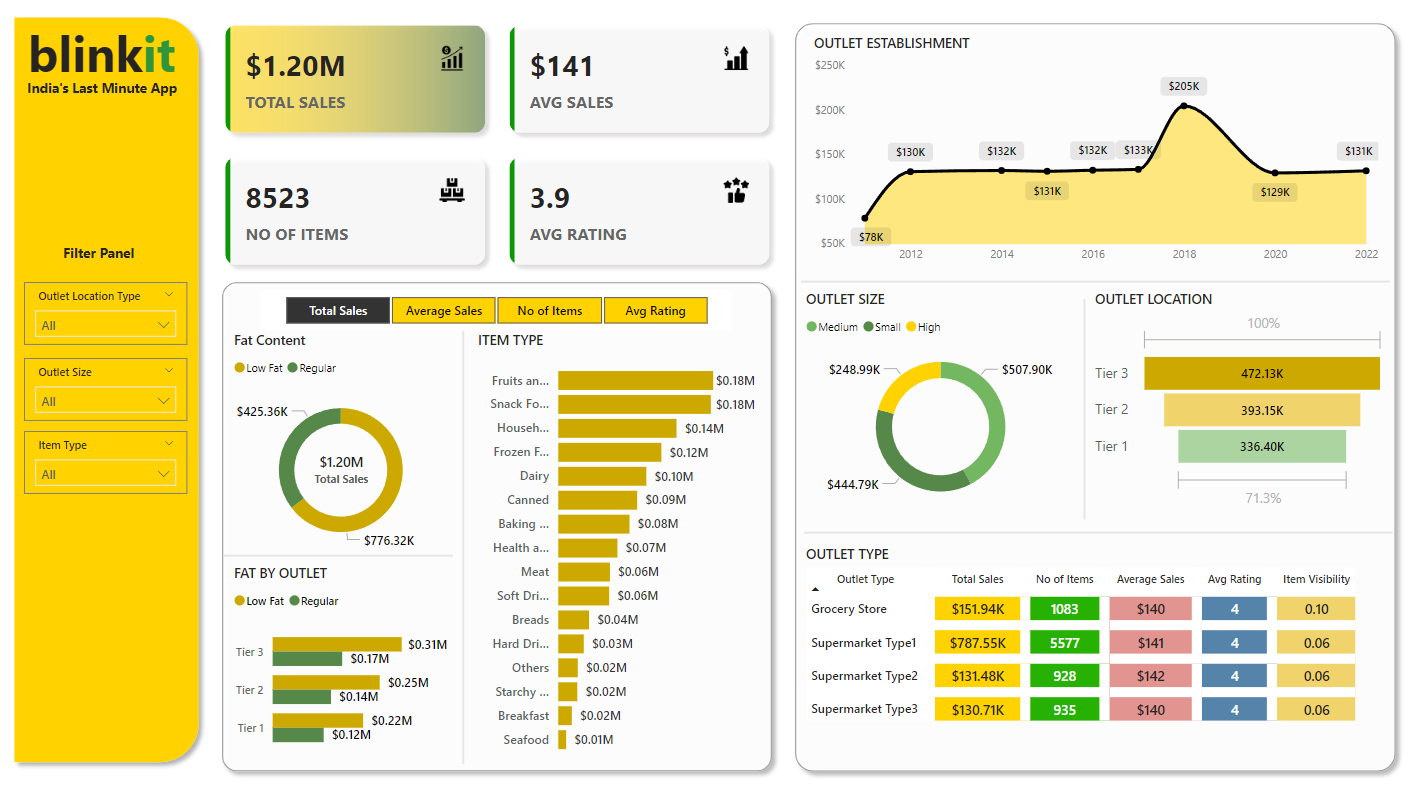

This screenshot's page, from the dashboard's own definition file:
{"tool":"powerbi","page":{"name":"Page 1","canvas":[1400,800],"ordinal":0},"visuals":[{"type":"shape","box":[7.4,18.1,200,752.1],"z":0},{"type":"textbox","box":[25.5,23.4,174.5,87.2],"z":1000},{"type":"textbox","box":[24.5,83,183,27.7],"z":2000},{"type":"cardVisual","fields":{"Data":["BlinkIT Grocery Data.Total Sales","BlinkIT Grocery Data.Average Sales","BlinkIT Grocery Data.No of Items","BlinkIT Grocery Data.Avg Rating"]},"box":[207.4,18.1,570.2,270.2],"z":3000},{"type":"shape","box":[212.8,278.7,559.6,500],"z":4000},{"type":"donutChart","title":"Fat Content","fields":{"Y":["BlinkIT Grocery Data.Total Sales"],"Category":["BlinkIT Grocery Data.Item Fat Content"]},"box":[228.7,336.2,220.2,229.8],"z":5000},{"type":"slicer","fields":{"Values":["Metrics.Metrics"]},"box":[259.6,295.7,464.9,40.4],"z":6000},{"type":"cardVisual","fields":{"Data":["BlinkIT Grocery Data.Total Sales"]},"box":[292.6,439.4,93.6,57.4],"z":7000},{"type":"clusteredBarChart","title":"FAT BY OUTLET","fields":{"Y":["BlinkIT Grocery Data.Total Sales"],"Category":["BlinkIT Grocery Data.Outlet Location Type"],"Series":["BlinkIT Grocery Data.Item Fat Content"]},"box":[228.7,566,220.2,196.8],"z":8000},{"type":"shape","box":[222.3,548.9,226.6,17],"z":9000},{"type":"shape","box":[448.9,336.2,20.2,426.6],"z":10000},{"type":"barChart","title":"ITEM TYPE","fields":{"Y":["BlinkIT Grocery Data.Total Sales"],"Category":["BlinkIT Grocery Data.Item Type"]},"box":[469.1,336.2,283,426.6],"z":11000},{"type":"shape","box":[777.7,23.4,609.6,755.3],"z":12000},{"type":"lineChart","title":"OUTLET ESTABLISHMENT ","fields":{"Category":["BlinkIT Grocery Data.Outlet Establishment Year"],"Y":["BlinkIT Grocery Data.Total Sales"]},"box":[800,43.6,566,235.1],"z":13000},{"type":"shape","box":[792.6,278.7,579.8,17],"z":14000},{"type":"donutChart","title":"OUTLET SIZE","fields":{"Y":["BlinkIT Grocery Data.Total Sales"],"Category":["BlinkIT Grocery Data.Outlet Size"]},"box":[792.6,295.7,275,225],"z":15000},{"type":"shape","box":[1064.9,304.3,12.8,217],"z":16000},{"type":"funnel","title":"OUTLET LOCATION","fields":{"Y":["Sum(BlinkIT Grocery Data.Sales)"],"Category":["BlinkIT Grocery Data.Outlet Location Type"]},"box":[1076.6,295.7,295.7,219.1],"z":17000},{"type":"shape","box":[794.7,526.6,579.8,17],"z":18000},{"type":"pivotTable","title":"OUTLET TYPE","fields":{"Rows":["BlinkIT Grocery Data.Outlet Type"],"Values":["BlinkIT Grocery Data.Total Sales","BlinkIT Grocery Data.No of Items","BlinkIT Grocery Data.Average Sales","BlinkIT Grocery Data.Avg Rating","Avg(BlinkIT Grocery Data.Item Visibility)"]},"box":[792.6,546.8,573.4,204.3],"z":19000},{"type":"slicer","fields":{"Values":["BlinkIT Grocery Data.Outlet Location Type"]},"box":[26.6,287.7,160.6,62.1],"z":20000},{"type":"slicer","fields":{"Values":["BlinkIT Grocery Data.Outlet Size"]},"box":[26.6,362.6,160.6,62.1],"z":21000},{"type":"slicer","fields":{"Values":["BlinkIT Grocery Data.Item Type"]},"box":[26.6,434.5,160.6,62.1],"z":22000},{"type":"textbox","box":[60.1,245.3,93.6,33.5],"z":23000}]}

Visuals, with their boxes in screenshot pixels (x1, y1, x2, y2), scaled from the page's 1400x800 canvas onto the 1409x792 screenshot:
shape: detection(7, 18, 209, 762)
textbox: detection(26, 23, 201, 109)
textbox: detection(25, 82, 209, 110)
cardVisual - BlinkIT Grocery Data.Total Sales x BlinkIT Grocery Data.Average Sales: detection(209, 18, 783, 285)
shape: detection(214, 276, 777, 771)
"Fat Content" donutChart: detection(230, 333, 452, 560)
slicer - Metrics.Metrics: detection(261, 293, 729, 333)
cardVisual - BlinkIT Grocery Data.Total Sales: detection(294, 435, 389, 492)
"FAT BY OUTLET" clusteredBarChart: detection(230, 560, 452, 755)
shape: detection(224, 543, 452, 560)
shape: detection(452, 333, 472, 755)
"ITEM TYPE" barChart: detection(472, 333, 757, 755)
shape: detection(783, 23, 1396, 771)
"OUTLET ESTABLISHMENT " lineChart: detection(805, 43, 1375, 276)
shape: detection(798, 276, 1381, 293)
"OUTLET SIZE" donutChart: detection(798, 293, 1074, 515)
shape: detection(1072, 301, 1085, 516)
"OUTLET LOCATION" funnel: detection(1084, 293, 1381, 510)
shape: detection(800, 521, 1383, 538)
"OUTLET TYPE" pivotTable: detection(798, 541, 1375, 744)
slicer - BlinkIT Grocery Data.Outlet Location Type: detection(27, 285, 188, 346)
slicer - BlinkIT Grocery Data.Outlet Size: detection(27, 359, 188, 420)
slicer - BlinkIT Grocery Data.Item Type: detection(27, 430, 188, 492)
textbox: detection(60, 243, 155, 276)
